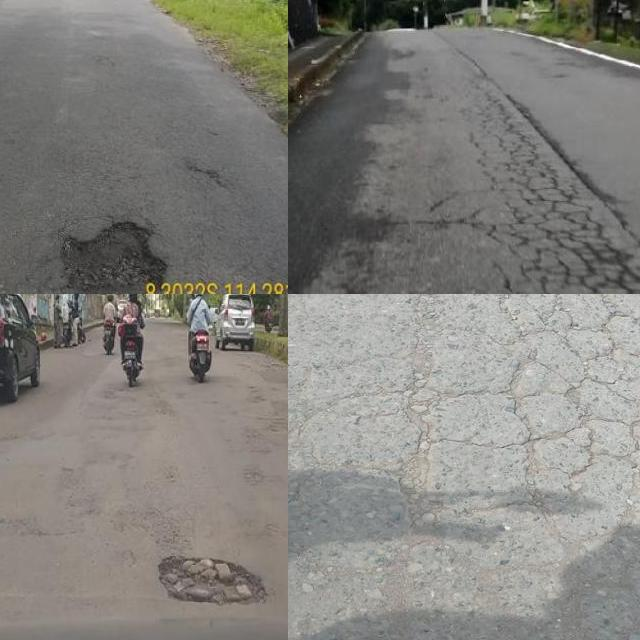Lubang: (62, 219, 158, 294), (150, 557, 268, 606)
Retak Buaya: (442, 294, 640, 518), (447, 98, 640, 294)
